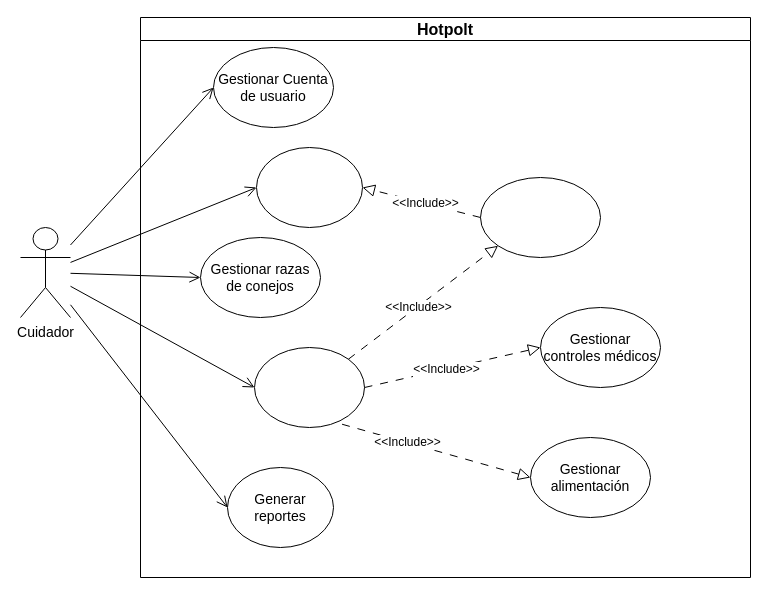
Some shapes in this 768 by 595 pixel diagram are drawn without their labels. Here are the shapes that lost their labels. From the top down, the centre of each, then its label:
At [309,187]: "Gestionar jaulas".
At [540,217]: "Gestionar reproducción".
At [309,387]: "Gestionar conejos".
